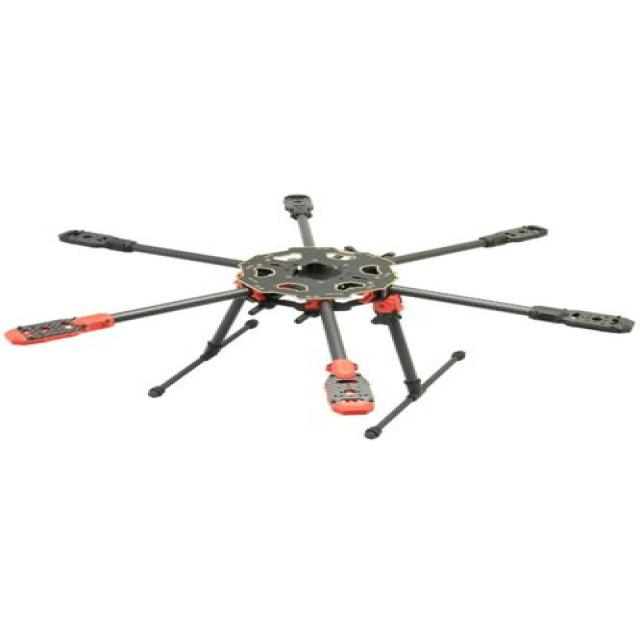drone: (14, 186, 640, 424)
